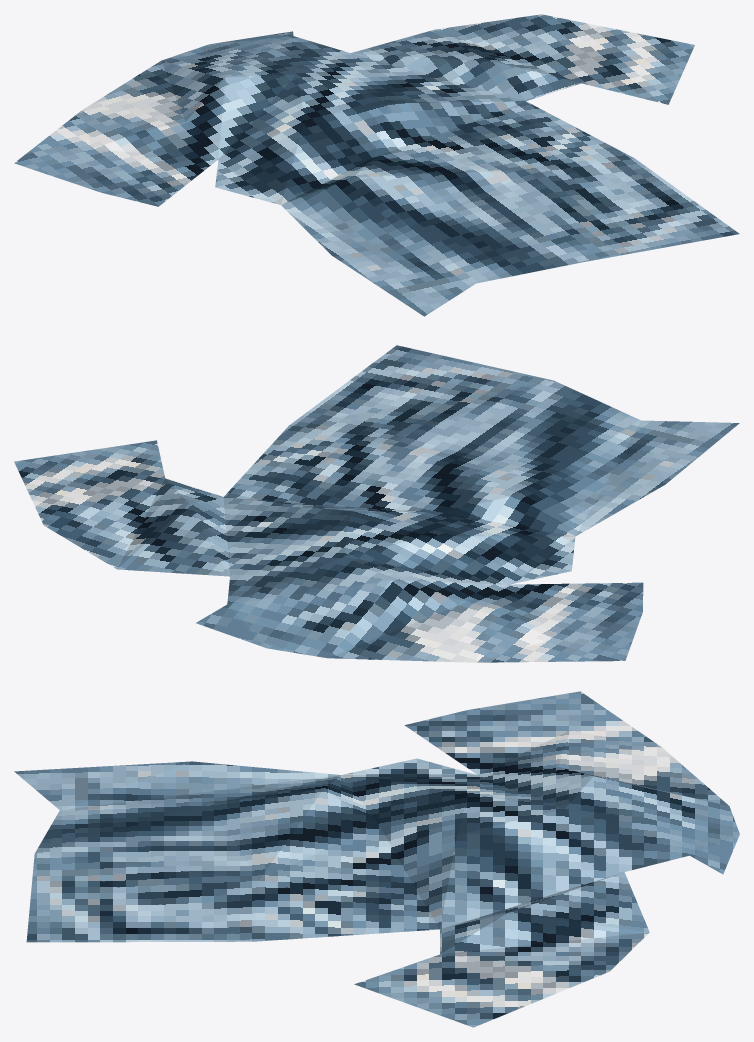
The model's file is crumpled-shirt.glb.
The picture shows the model from 3 angles, top to bottom: view 1: azimuth 30°, elevation 25°; view 2: azimuth 150°, elevation 25°; view 3: azimuth 270°, elevation 25°; orthographic projection. The views are drawn at different scales.
Parts seen in each view (by area): view 1: crumpled-shirt; view 2: crumpled-shirt; view 3: crumpled-shirt.
Boxes of the visible parts, x1,y1,x2,y2 form: crumpled-shirt: (14, 14, 739, 316); crumpled-shirt: (14, 345, 739, 662); crumpled-shirt: (14, 691, 739, 1027).
Bounding box in the file's own units: 0.57 × 0.0244 × 0.52.
1 material, 1 textured.
